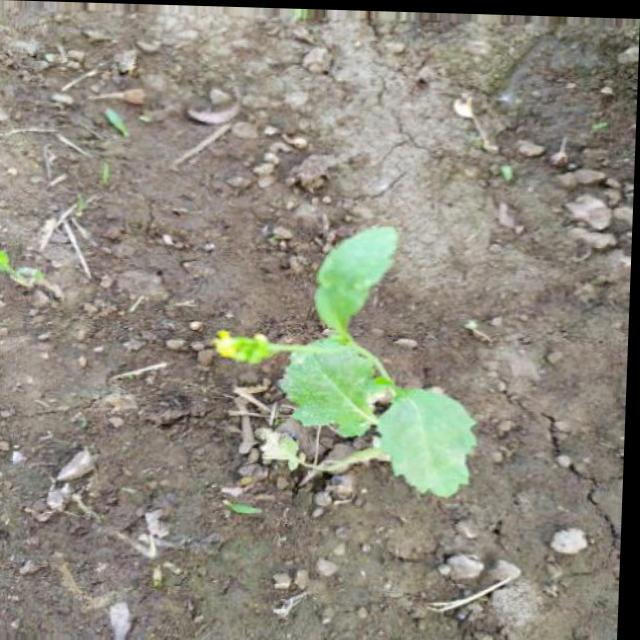weed: (202, 218, 486, 514)
